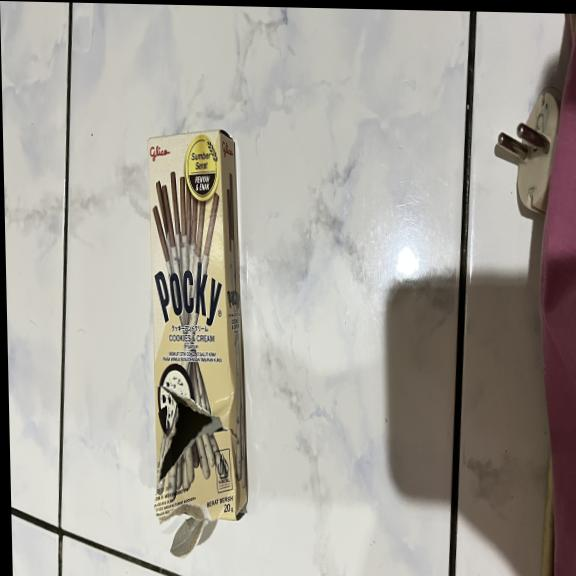Kertas: (143, 127, 241, 517)
